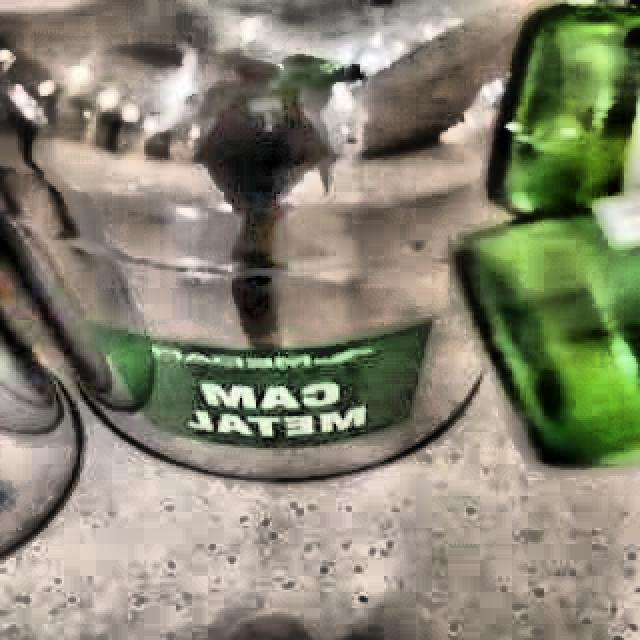glass: (459, 2, 640, 464)
